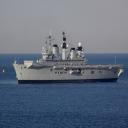Portanaves: (13, 30, 126, 86)
